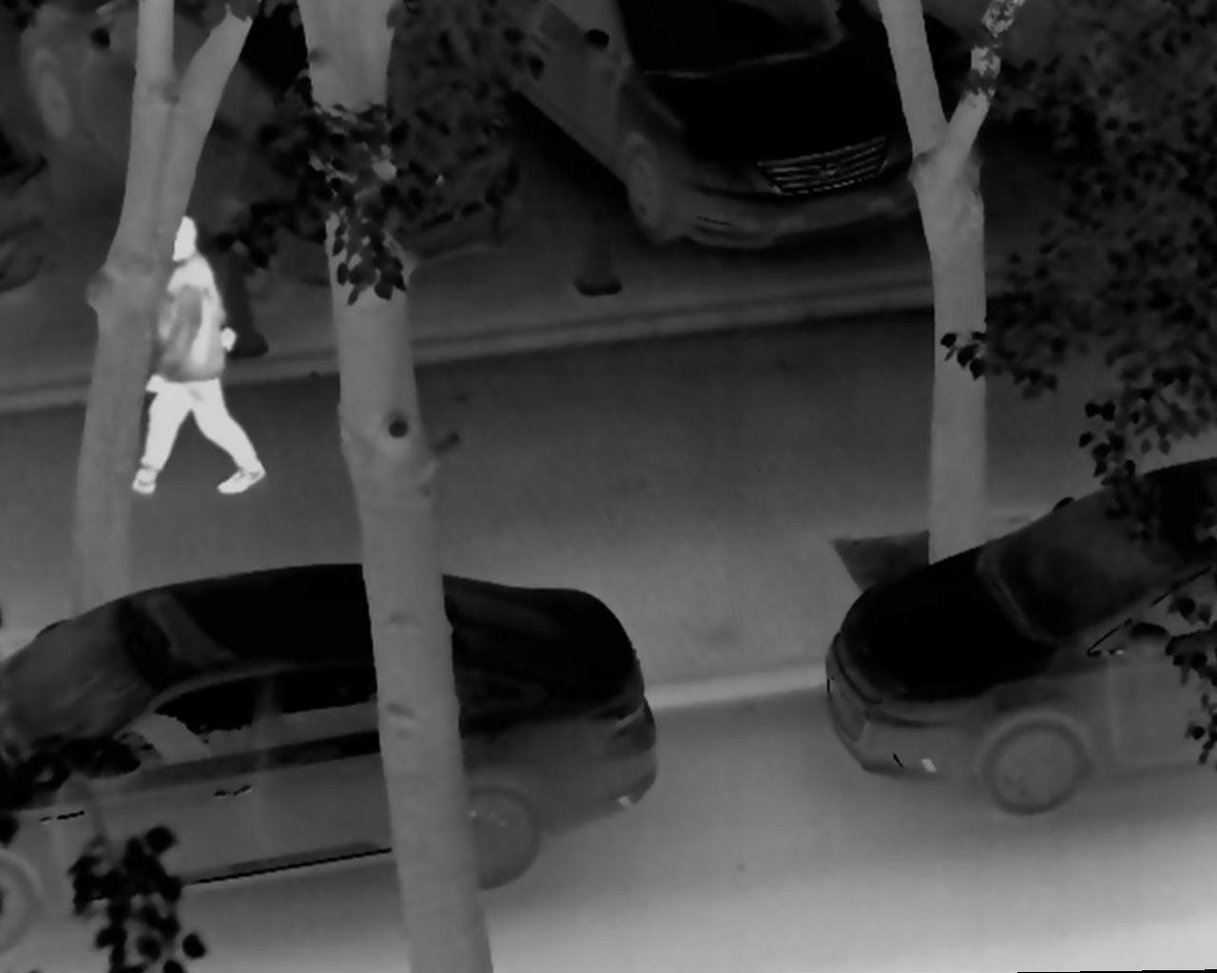person: (112, 205, 266, 509)
